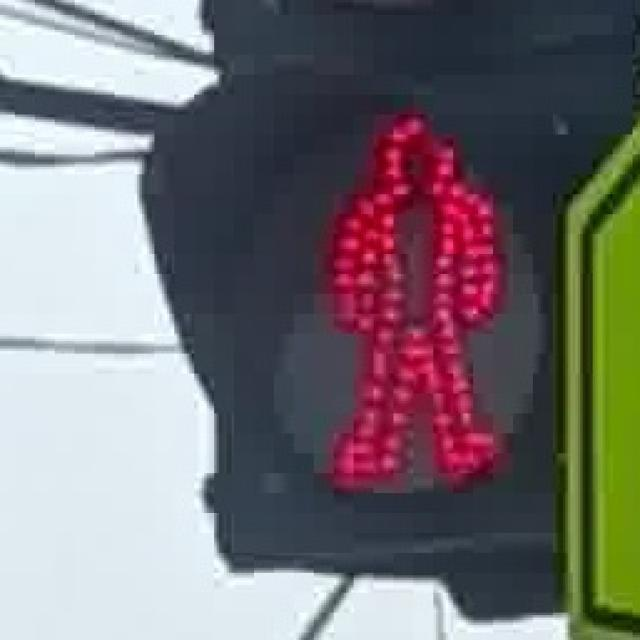red_light: (282, 84, 526, 514)
